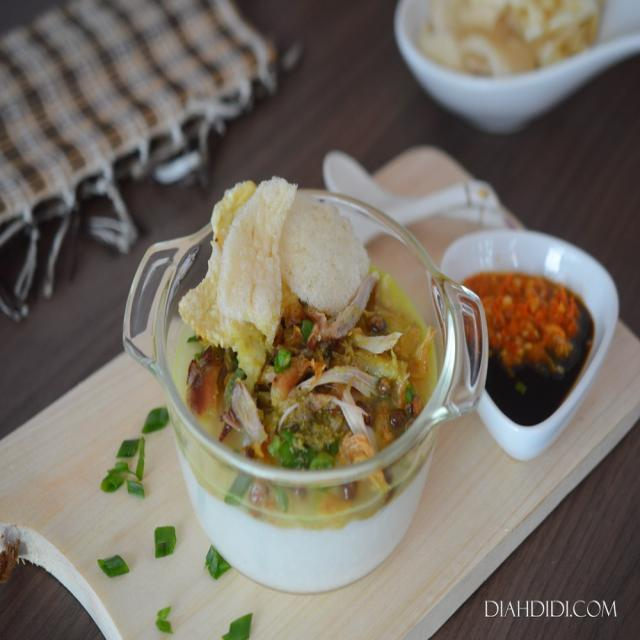bubur ayam: (188, 175, 440, 459)
mangkuk: (122, 181, 487, 596), (440, 228, 620, 464), (394, 0, 640, 134)
